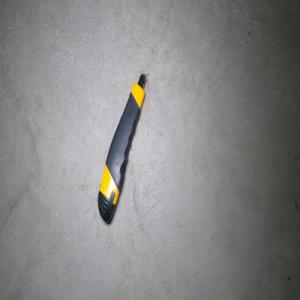Cutter: (96, 72, 146, 224)
